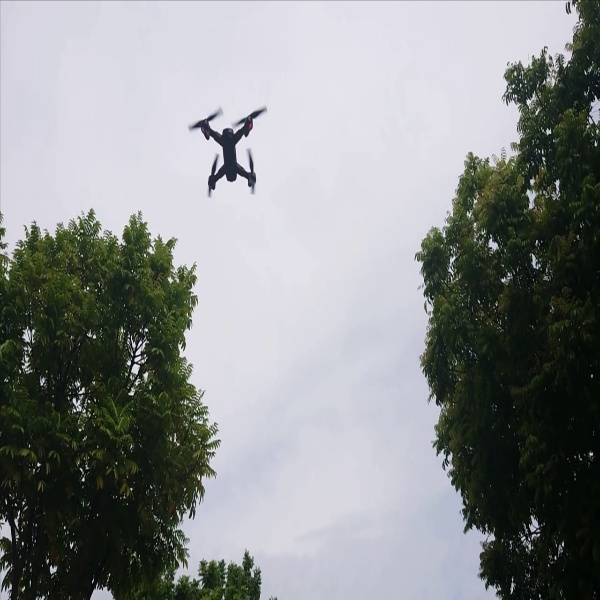drone: (174, 100, 283, 205)
